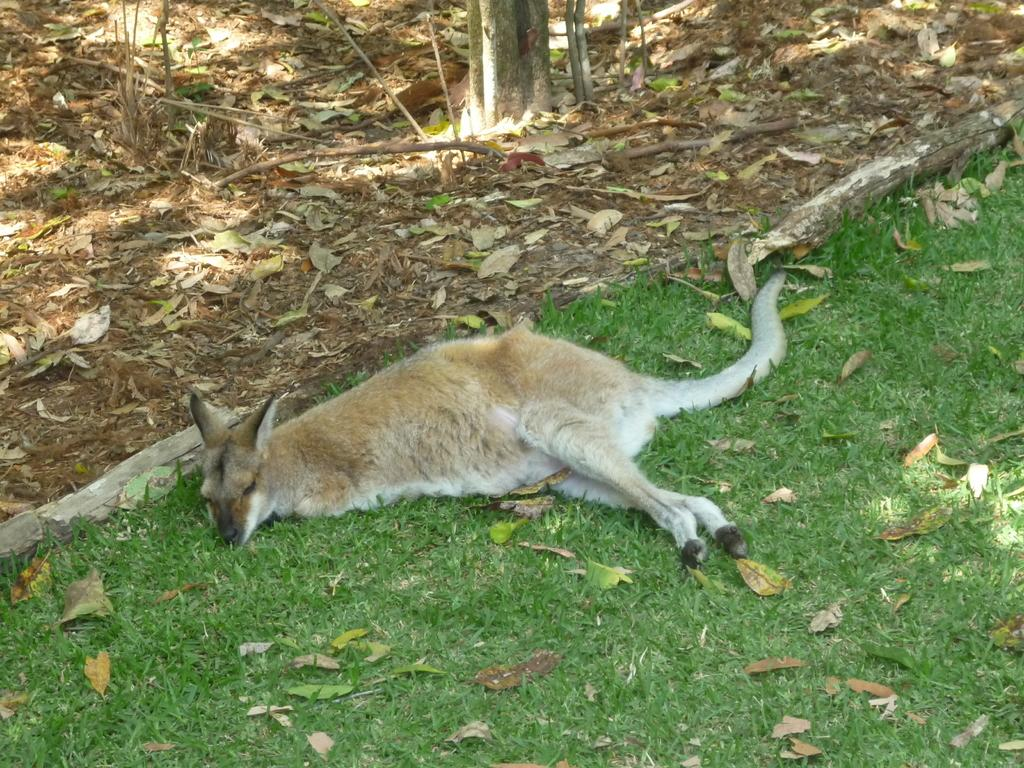kangaroo: (188, 278, 787, 570)
